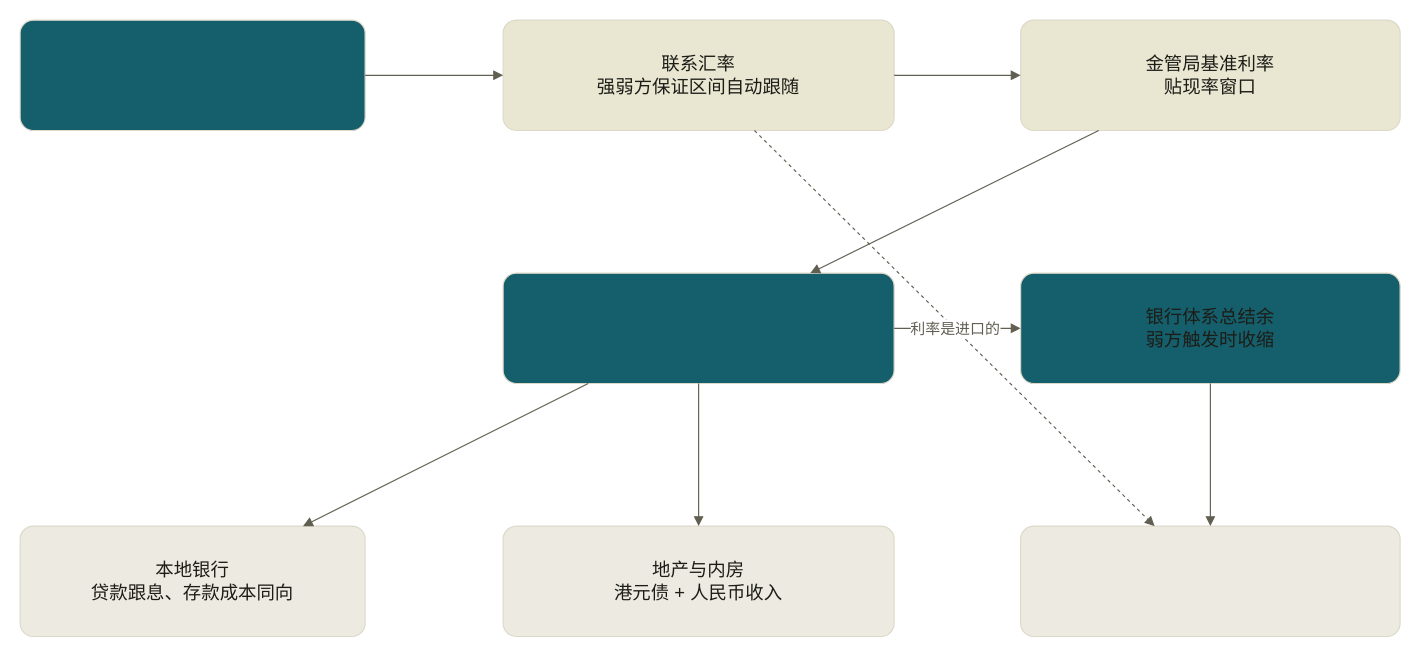
Image size: 1420x657. Some labels were removed from this diagram. The shapes that lost their labels are listed below. From the top down, each one's centre as x and y in pixels, then its label:
point (192, 75): 美联储决策 联邦基金目标利率
point (698, 328): HIBOR 银行同业资金价
point (1209, 581): 估值与资金流 南向与外资两头的钱
